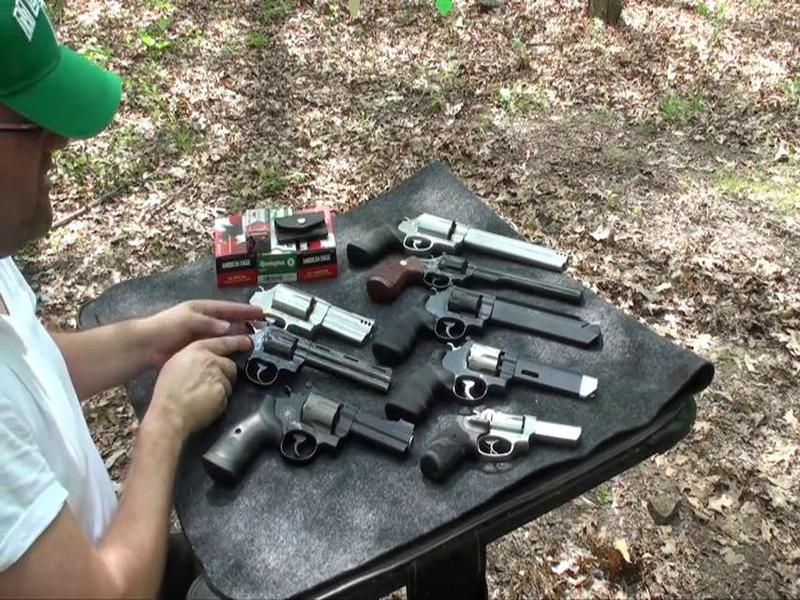Revolver: (198, 314, 402, 424)
